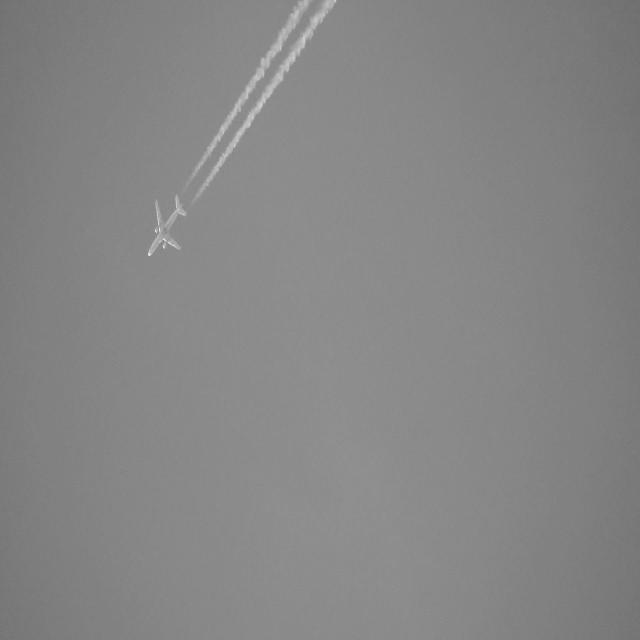aeroplane: (141, 190, 186, 262)
